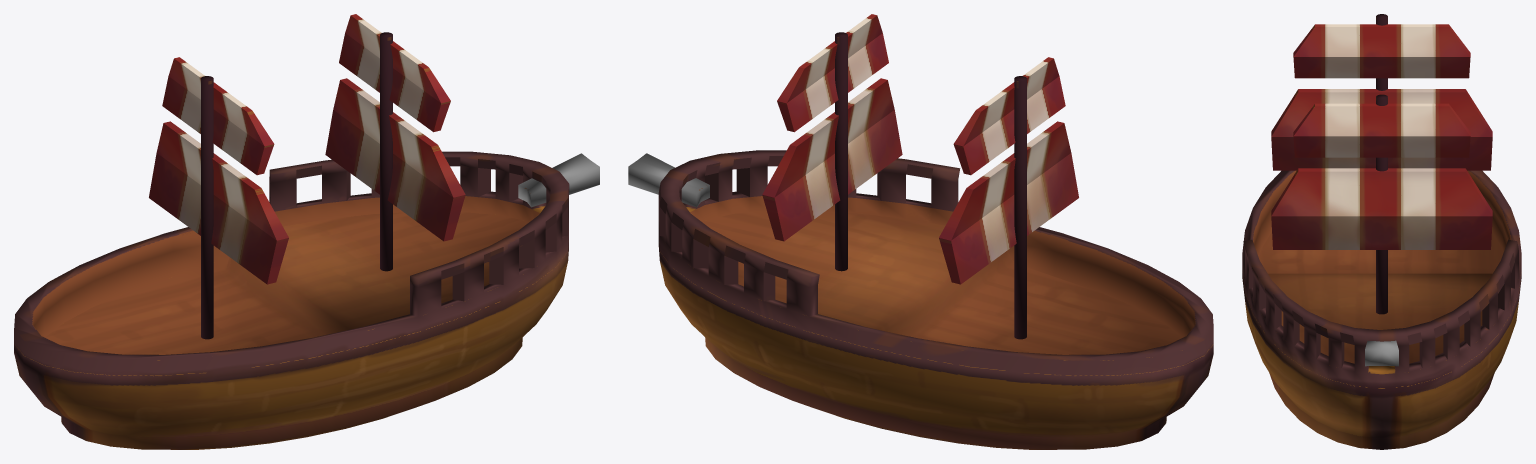
File: BigShip.fbx
The picture shows the model from 3 angles, left to right: view 1: azimuth 30°, elevation 25°; view 2: azimuth 150°, elevation 25°; view 3: azimuth 270°, elevation 25°; orthographic projection. The views are drawn at different scales.
Parts seen in each view (by area): view 1: Sphere.002; view 2: Sphere.002; view 3: Sphere.002.
Boxes of the visible parts, left/top/right/bottom form: Sphere.002: left=14, top=14, right=599, bottom=449; Sphere.002: left=628, top=14, right=1213, bottom=449; Sphere.002: left=1242, top=14, right=1521, bottom=449.
Bounding box in the file's own units: 176057 × 104600 × 81646.
4 materials, 4 textured.
